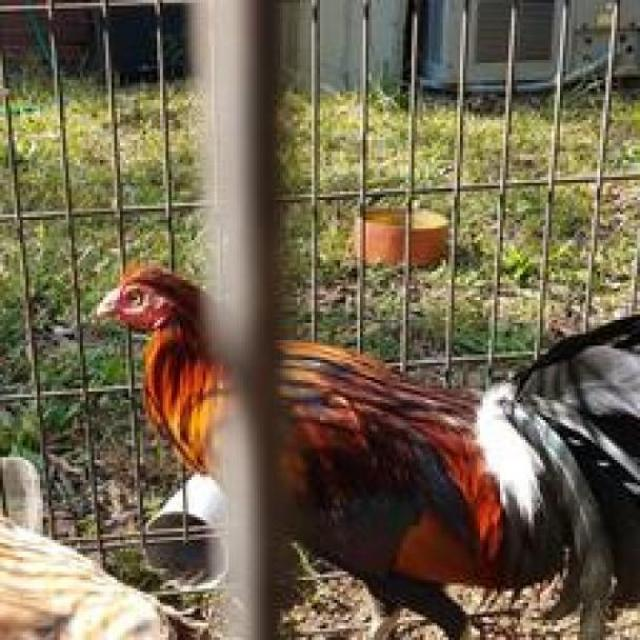Chicken: (92, 260, 640, 627)
